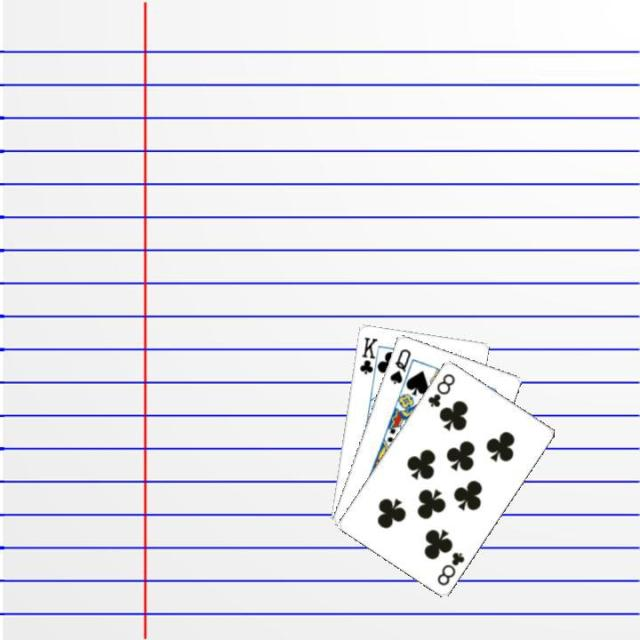8C: (423, 369, 457, 409), (433, 548, 467, 588)
KC: (356, 334, 382, 381)
QS: (386, 344, 412, 386)
